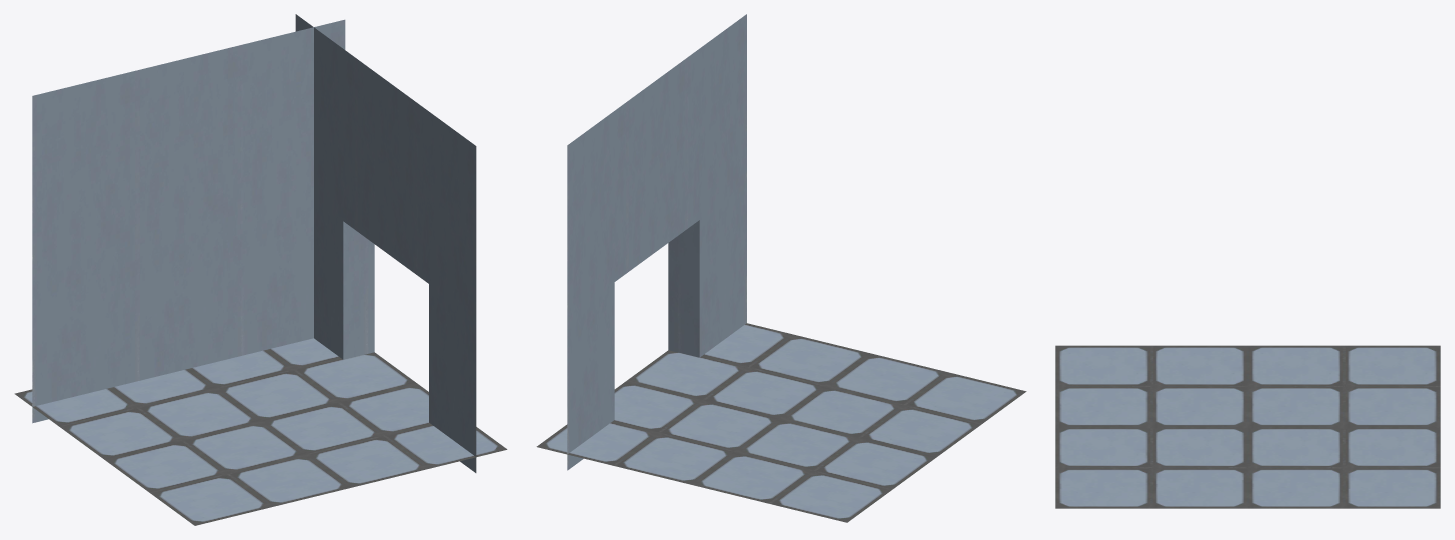
Rendered from Room_MTN_Door_Corner_B_1_F.glb.
3 views of the same model, side by side, from view 1: azimuth 30°, elevation 25°; view 2: azimuth 150°, elevation 25°; view 3: azimuth 270°, elevation 25° (orthographic). The views are drawn at different scales.
Visible parts, largest first — view 1: Room_MTN_Door_Corner_B_1_F; view 2: Room_MTN_Door_Corner_B_1_F; view 3: Room_MTN_Door_Corner_B_1_F.
Part boxes in pixels (box(x1,y1,x2,y2)): Room_MTN_Door_Corner_B_1_F: box(14, 14, 507, 525); Room_MTN_Door_Corner_B_1_F: box(536, 14, 1026, 522); Room_MTN_Door_Corner_B_1_F: box(1055, 345, 1440, 508).
Size of the model in its own units: 4 by 4 by 4.
Materials: 2 (2 with a texture image).
